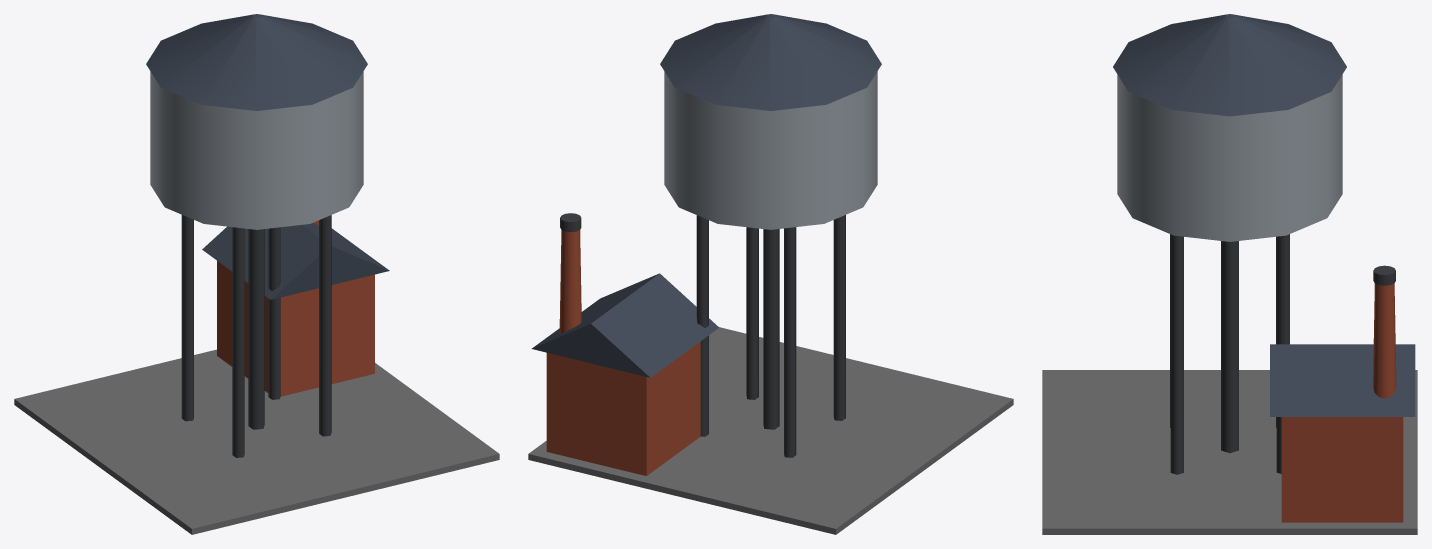
The model's file is bld_special_water_works_a05.glb.
The picture shows the model from 3 angles, left to right: view 1: azimuth 30°, elevation 25°; view 2: azimuth 150°, elevation 25°; view 3: azimuth 270°, elevation 25°; orthographic projection. The views are drawn at different scales.
Visible parts, largest first — view 1: body; view 2: body; view 3: body.
Part boxes in pixels (box(x1,y1,x2,y2)): body: box(14, 14, 499, 534); body: box(528, 14, 1013, 534); body: box(1042, 14, 1417, 534).
Size of what is drawn, in the model's own units: 8 by 10.35 by 8.
